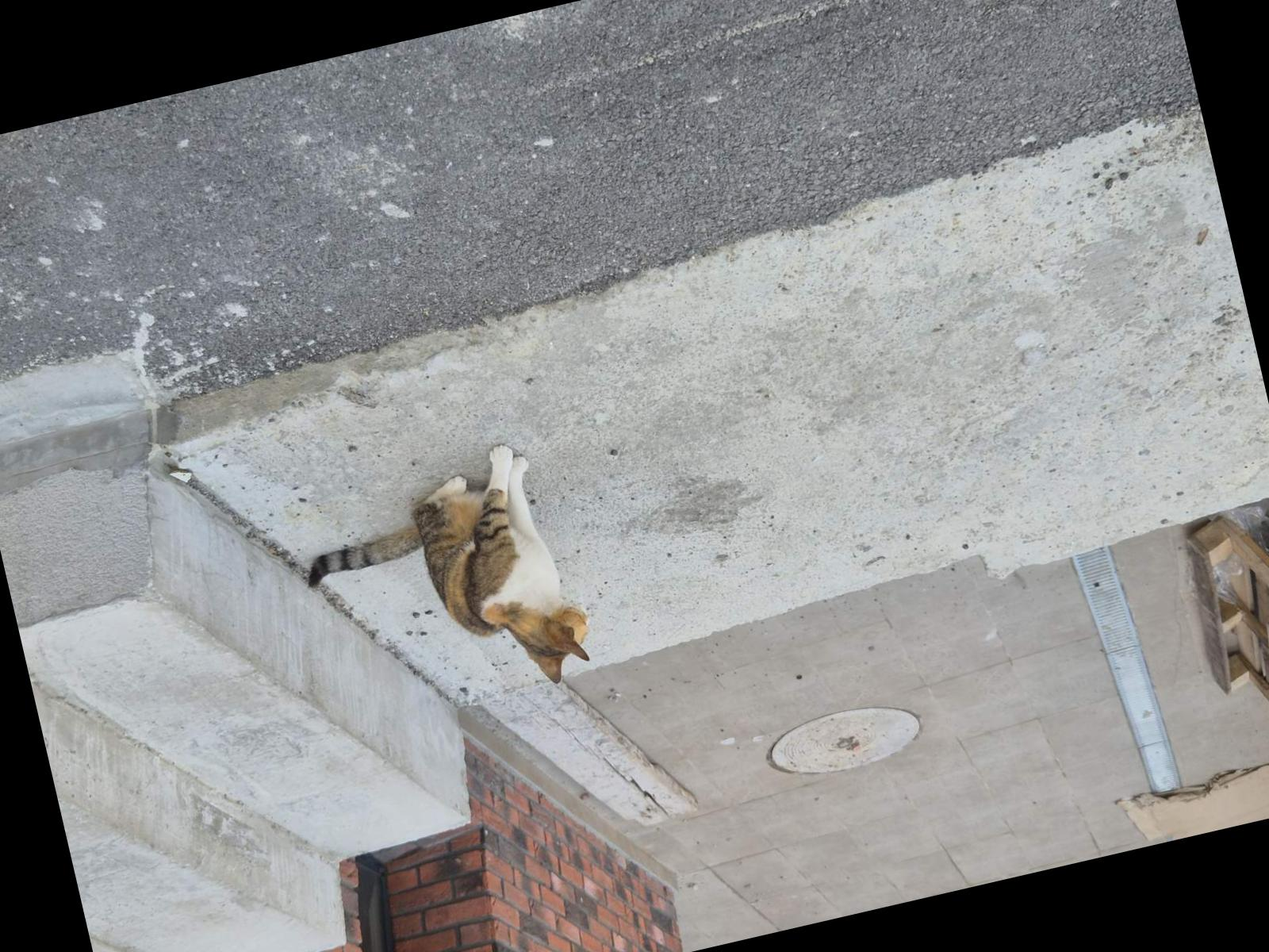macka: (288, 431, 605, 735)
